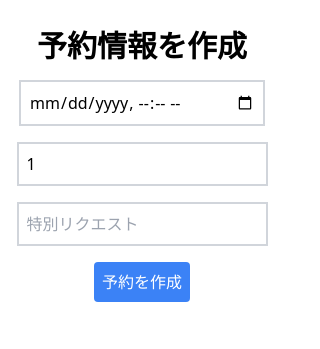
Test: ReservertionForm › submits the form successfully and shows success message
In the field with placeholder "予約日": (142, 103) [19,80,265,126], type "2024-10-02T12:00"
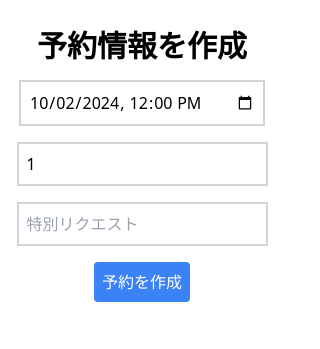
Replace the text in the number field with placeholder "人数" with "4": (142, 164) [16,142,268,186]
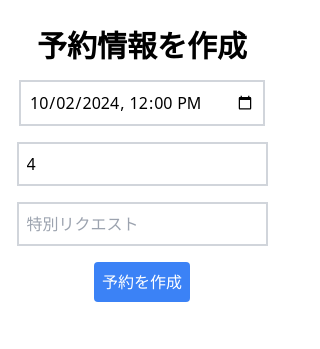
In the field with placeholder "特別リクエスト": (142, 224) [16,202,268,246], type "ベジタリアンメニューをお願いします"
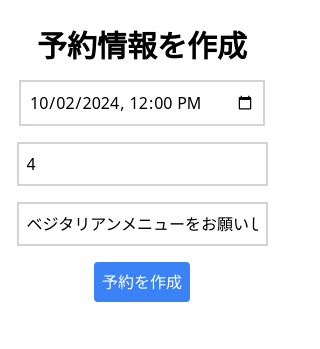
Note: 送信ボタンをクリック
Click the button "予約を作成": (142, 282) [94,262,190,302]
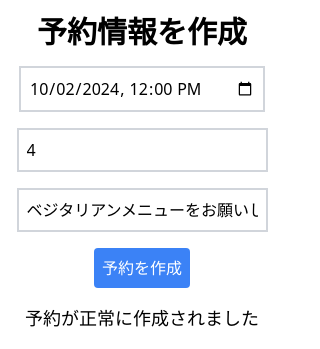
Expected: the text "予約が正常に作成されました" is shown, [25,304,259,332]
